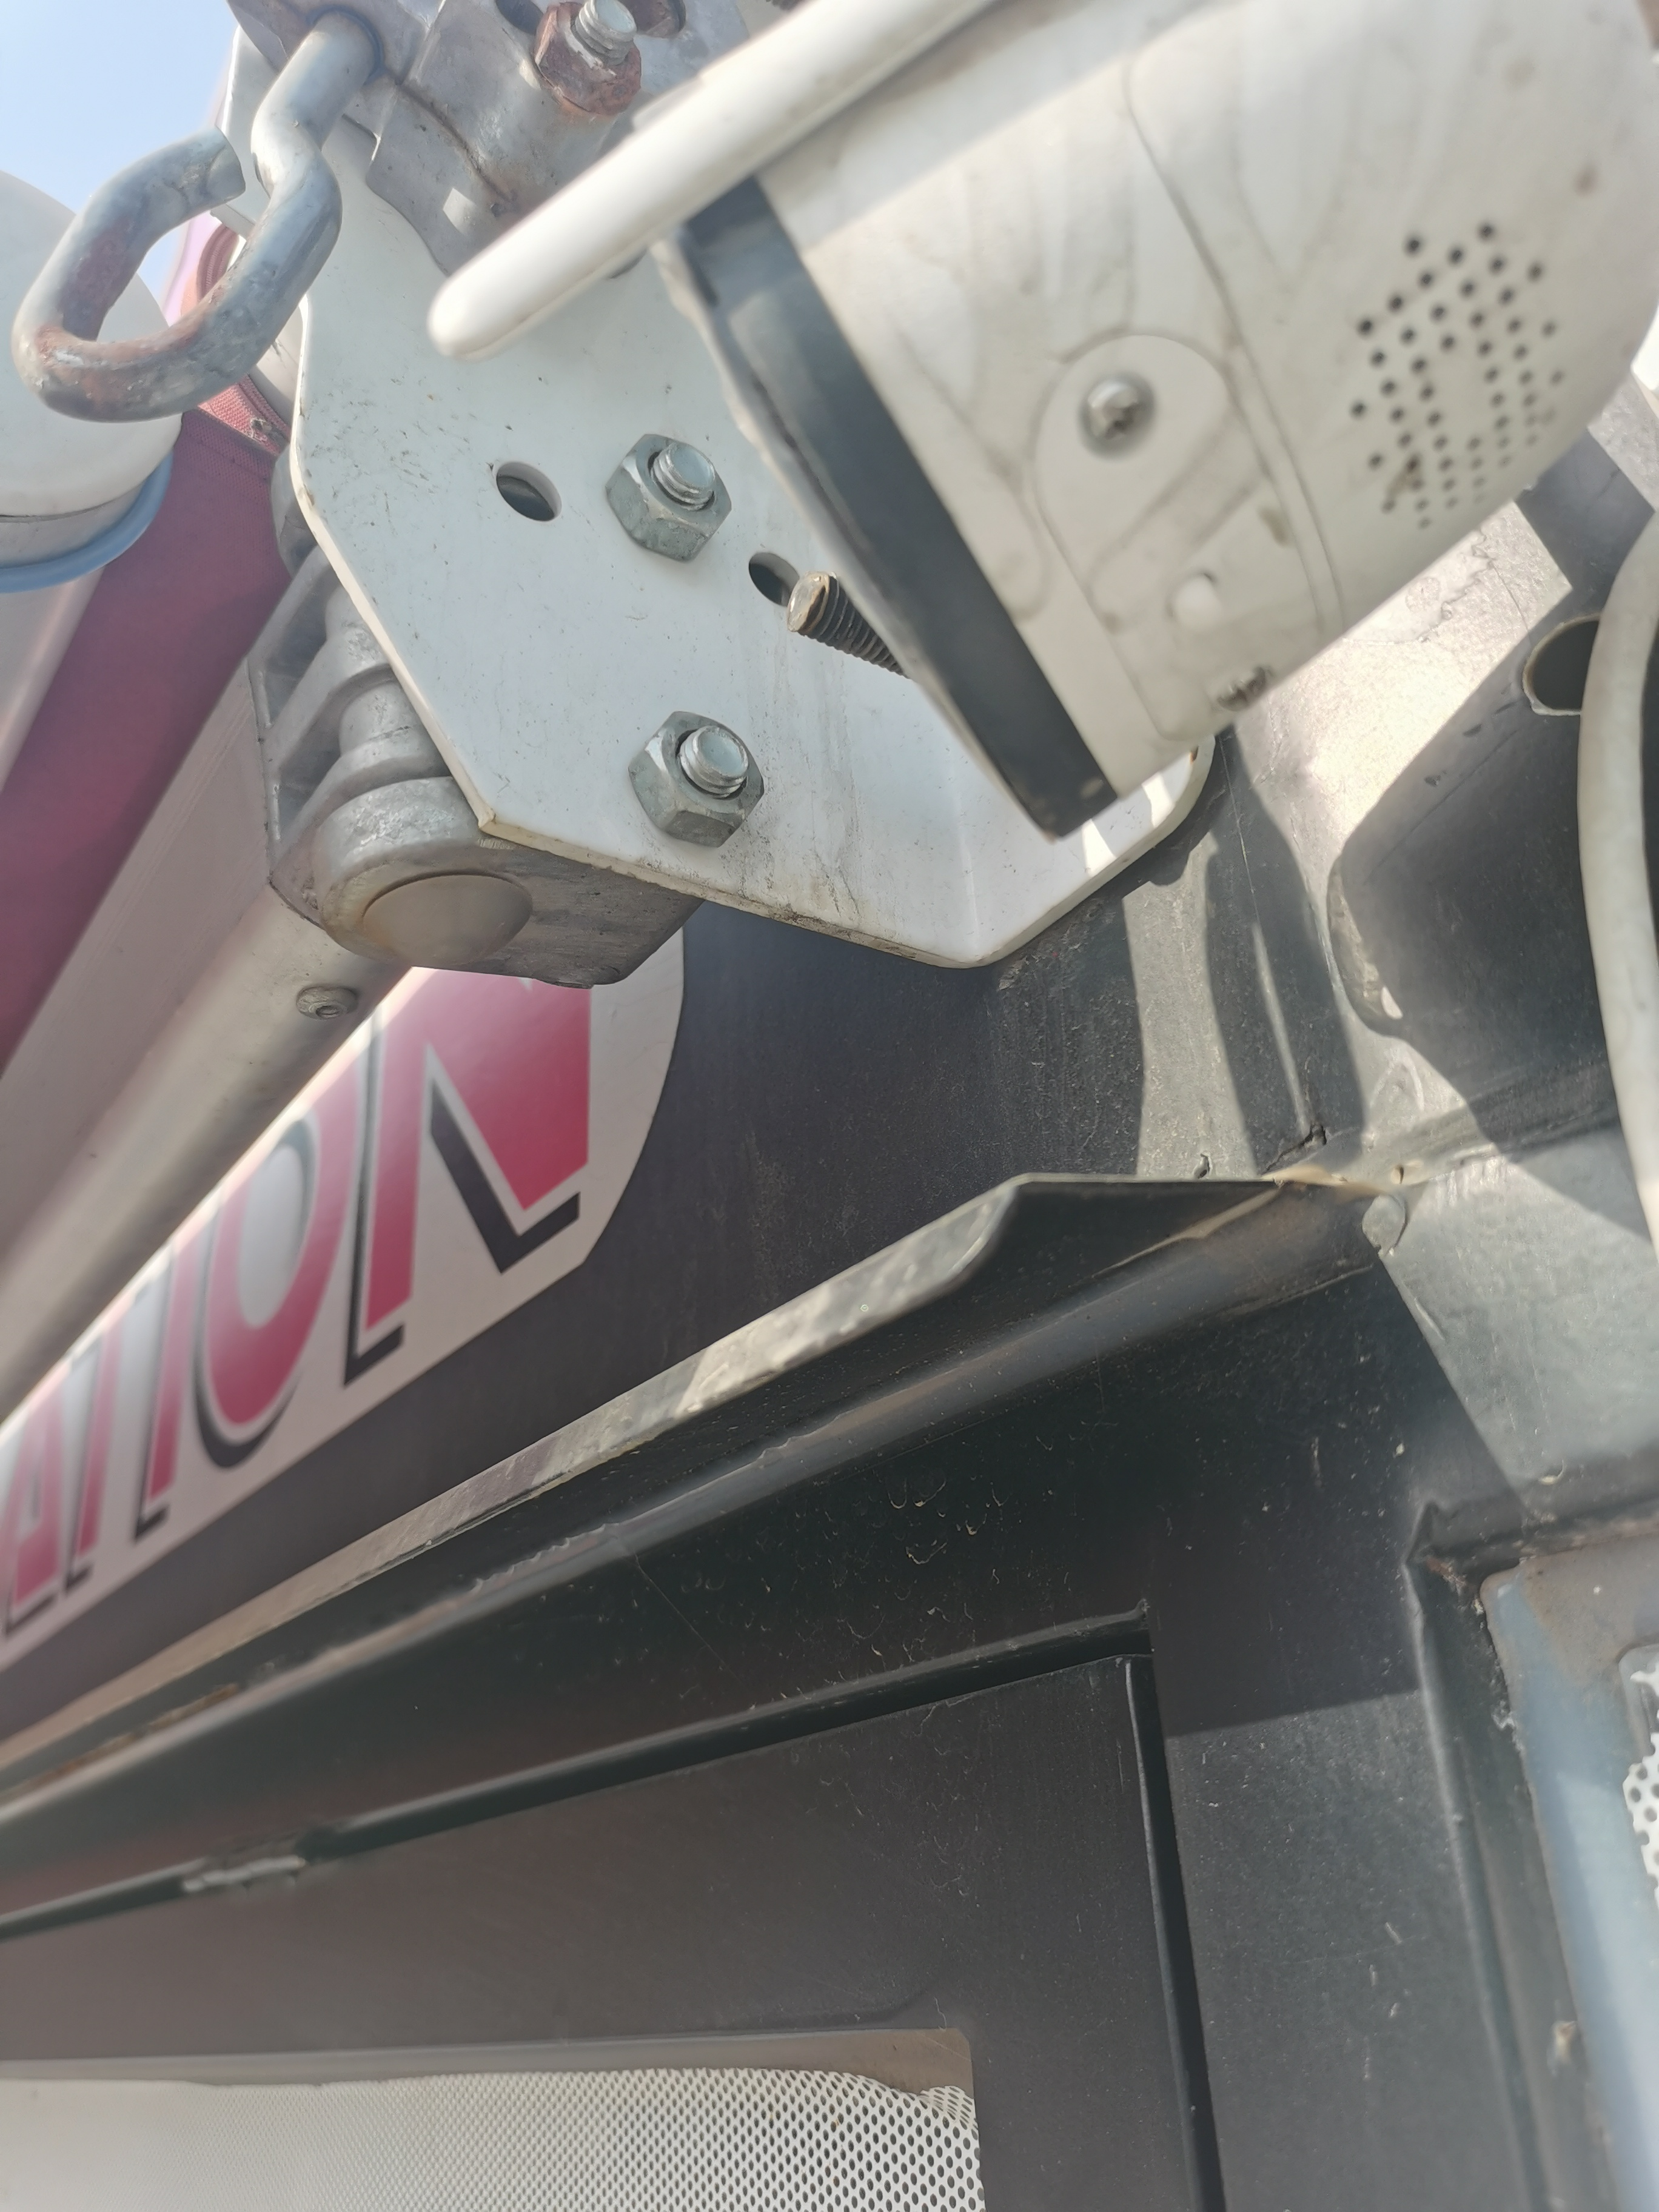bolt_b: (624, 707, 769, 855), (599, 427, 735, 568), (528, 5, 648, 115)
